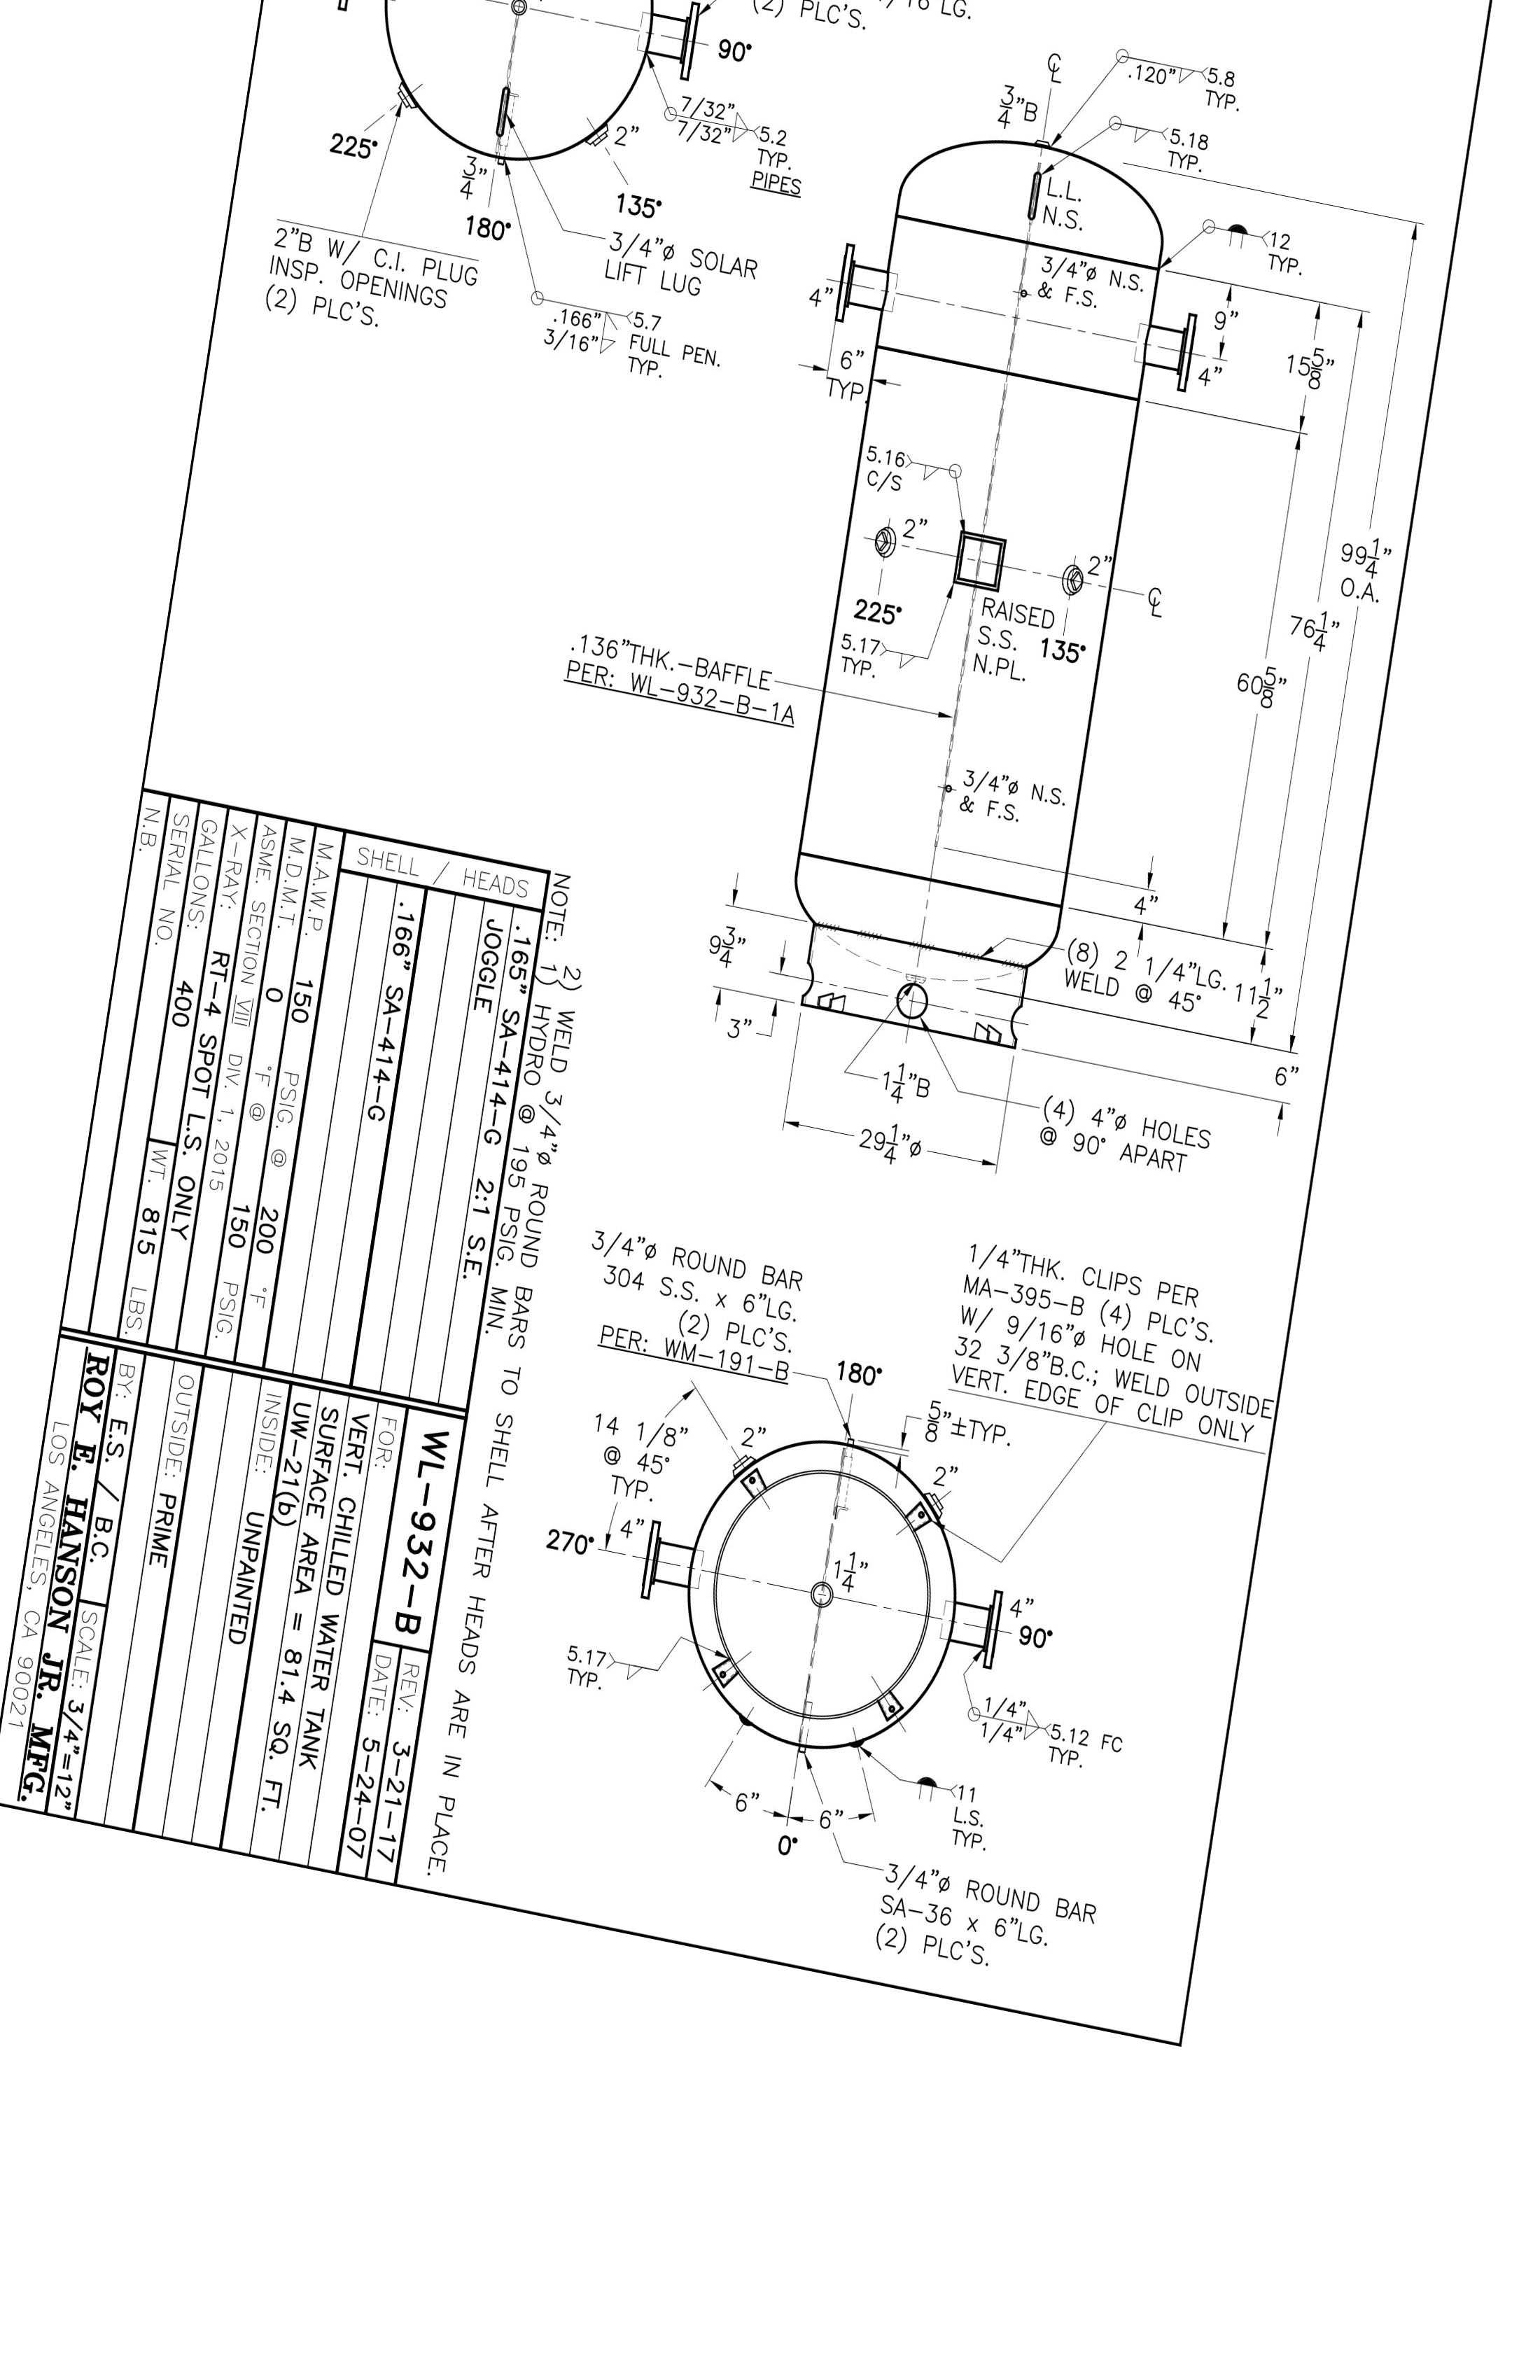Nozzle: (786, 232, 910, 369), (638, 1466, 718, 1648), (919, 1572, 1030, 1691), (1131, 281, 1231, 409), (642, 0, 721, 109)
